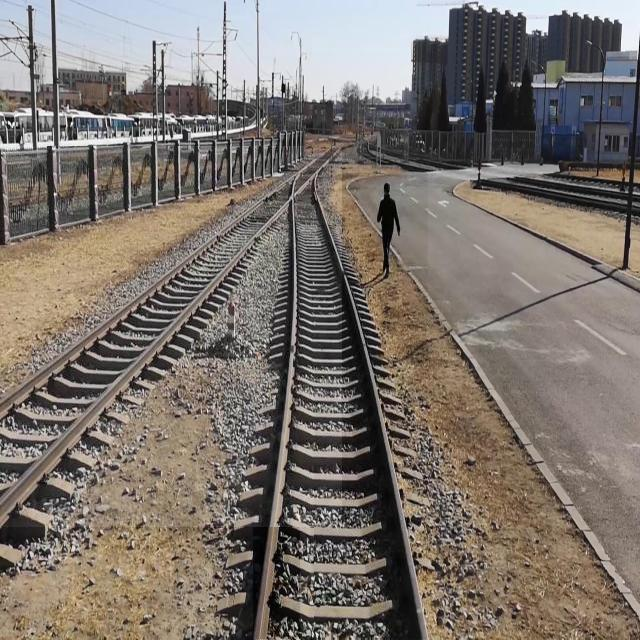rail: (1, 148, 343, 528), (1, 148, 333, 421), (315, 175, 429, 640), (254, 175, 301, 640)
